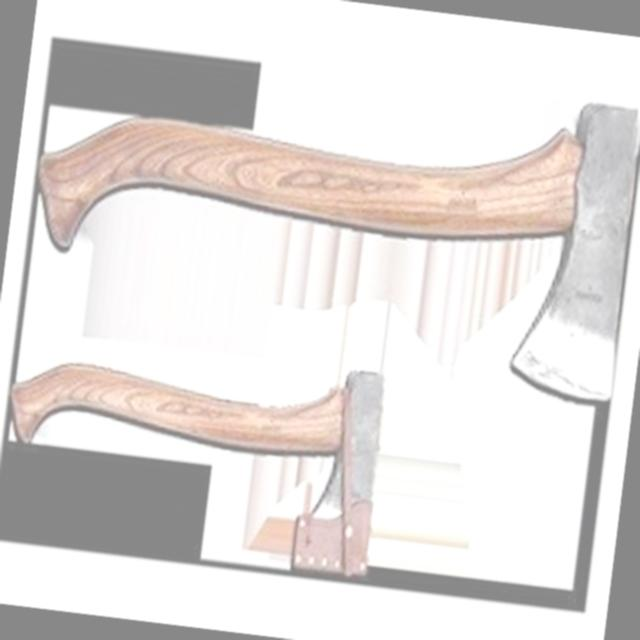ax: (6, 24, 640, 417), (0, 323, 405, 587)
